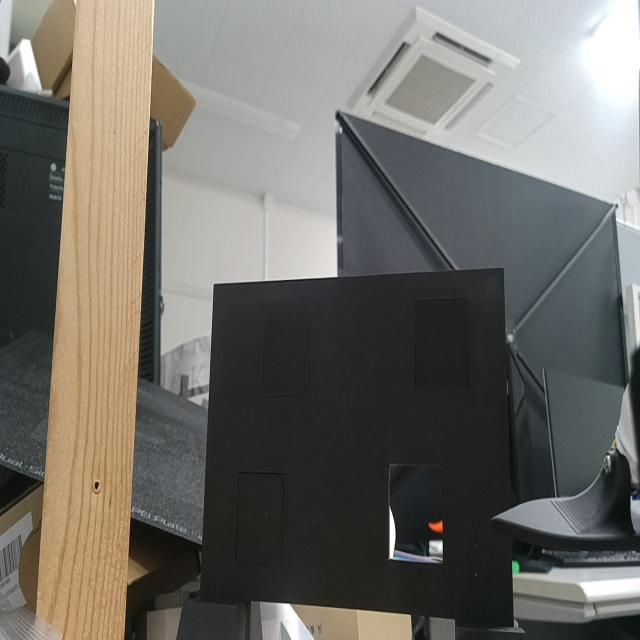Obstacle: (388, 466, 443, 560)
Wall: (200, 265, 513, 625)
